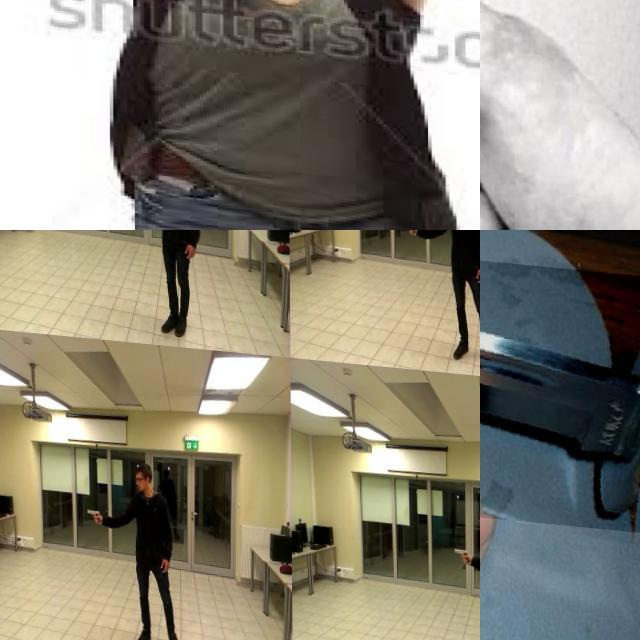-: (480, 230, 640, 520), (480, 0, 640, 230)
gun-knife-thesis - v11 Yolov5 augmented: (333, 0, 441, 43), (450, 533, 471, 560), (82, 502, 100, 522), (118, 230, 137, 239), (396, 230, 415, 239)
